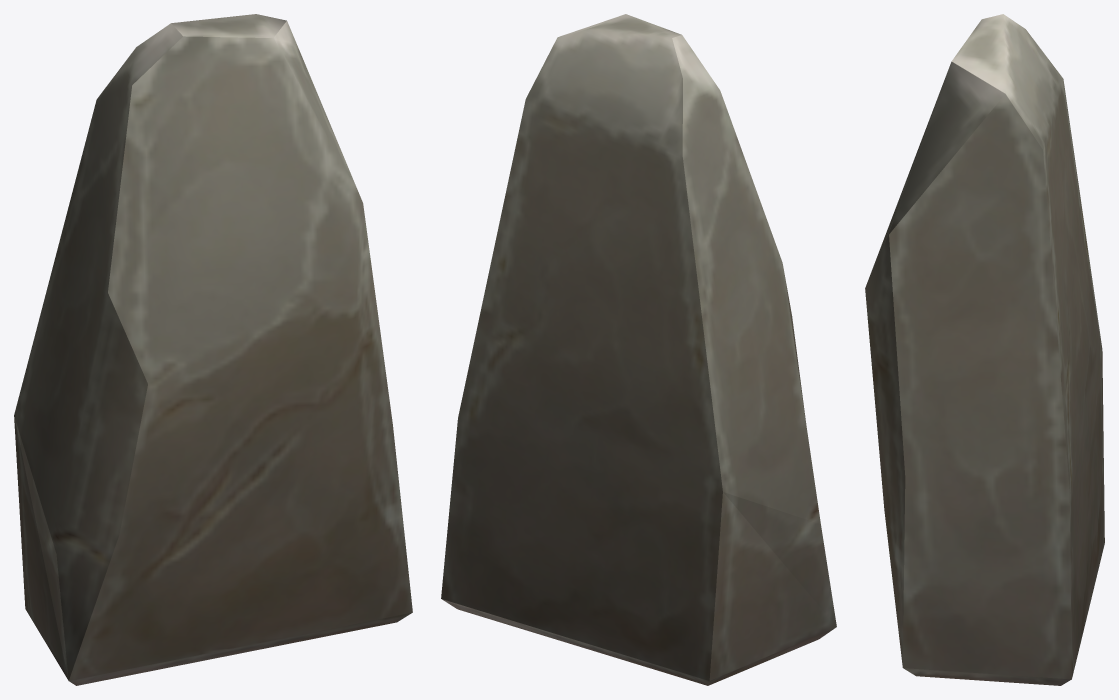
Rendered from rocks_08.glb.
3 views of the same model, side by side, from view 1: azimuth 30°, elevation 25°; view 2: azimuth 150°, elevation 25°; view 3: azimuth 270°, elevation 25° (orthographic). The views are drawn at different scales.
Visible parts, largest first — view 1: SM_Rocks_08_RocksStylized_M_0; view 2: SM_Rocks_08_RocksStylized_M_0; view 3: SM_Rocks_08_RocksStylized_M_0.
Part boxes in pixels (bbox=[...]): SM_Rocks_08_RocksStylized_M_0: bbox=[14, 14, 412, 685]; SM_Rocks_08_RocksStylized_M_0: bbox=[441, 14, 836, 685]; SM_Rocks_08_RocksStylized_M_0: bbox=[865, 14, 1104, 685].
Bounding box in the file's own units: 5.63 × 9.76 × 3.63.
Materials: 1 (1 with a texture image).
